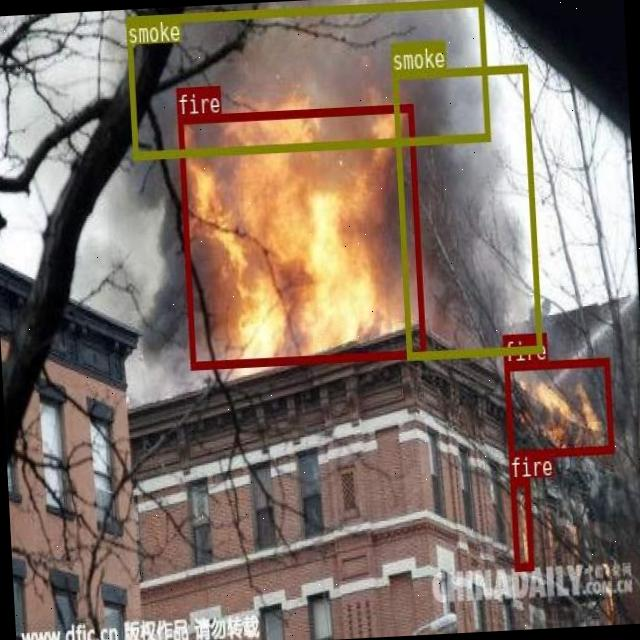fire: (177, 103, 425, 368), (504, 356, 614, 457), (509, 477, 534, 569)
smoke: (126, 0, 489, 158), (392, 62, 542, 358)
